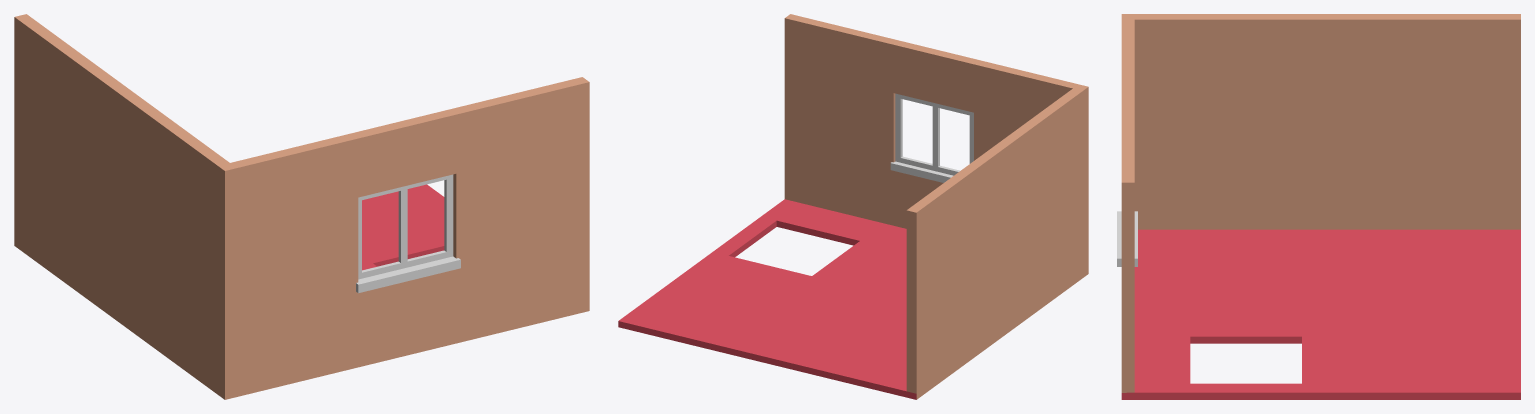
File: window_stairs.glb
3 renders of one model, left to right at view 1: azimuth 30°, elevation 25°; view 2: azimuth 150°, elevation 25°; view 3: azimuth 270°, elevation 25°, orthographic. The views are drawn at different scales.
Visible parts, largest first — view 1: Cube; view 2: Cube; view 3: Cube.
Part boxes in pixels (<box>): Cube: <box>14,14,589,399</box>; Cube: <box>618,14,1088,399</box>; Cube: <box>1117,14,1520,399</box>.
Size of the model in its own units: 9 by 5.4 by 9.1.
